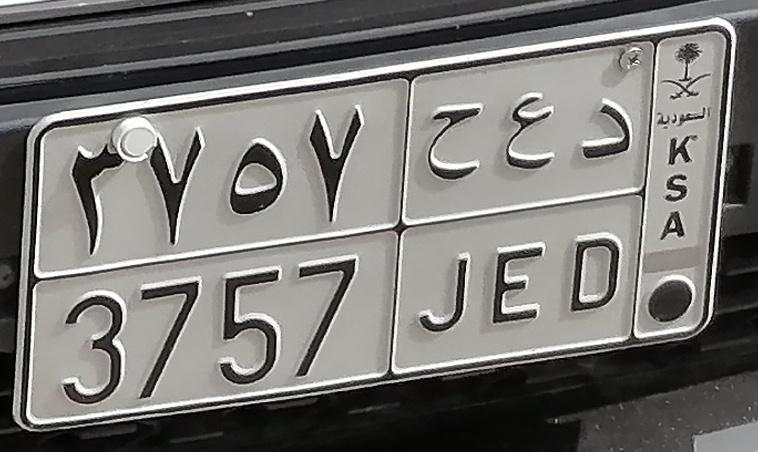3: (60, 134, 136, 408)
5: (212, 132, 290, 390)
7: (291, 102, 373, 379), (136, 122, 206, 407)
D: (568, 95, 639, 313)
E: (490, 87, 558, 324)
J: (415, 100, 484, 335)
